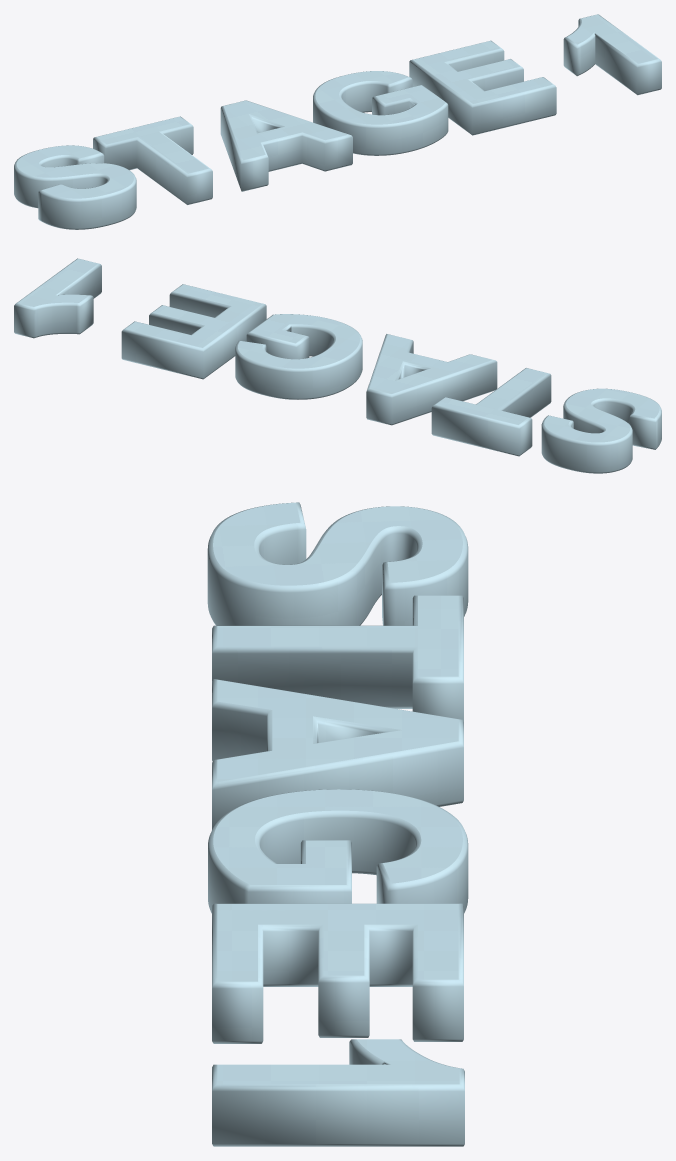
Rendered from stage_1.obj.
3 views of the same model, one above another, from view 1: azimuth 30°, elevation 25°; view 2: azimuth 150°, elevation 25°; view 3: azimuth 270°, elevation 25° (orthographic). The views are drawn at different scales.
Parts seen in each view (by area): view 1: Stage1Label; view 2: Stage1Label; view 3: Stage1Label.
Boxes of the visible parts, <box> form: Stage1Label: <box>14,14,661,229</box>; Stage1Label: <box>14,258,661,473</box>; Stage1Label: <box>207,502,468,1146</box>.
Bounding box in the file's own units: 3.5 × 0.173 × 0.657.
Materials: 1 (1 with a texture image).
